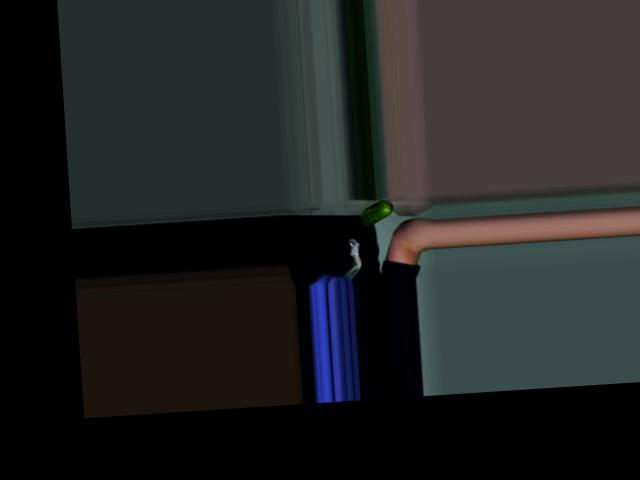cucumber: (359, 199, 394, 226)
